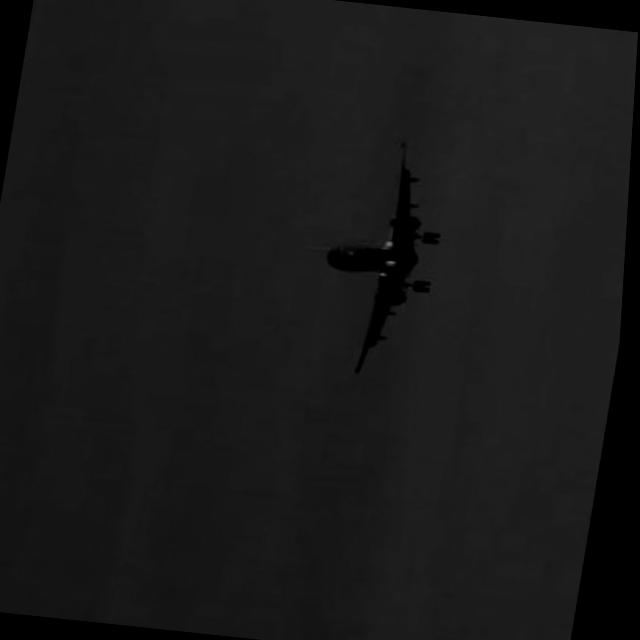aeroplane: (304, 130, 460, 382)
